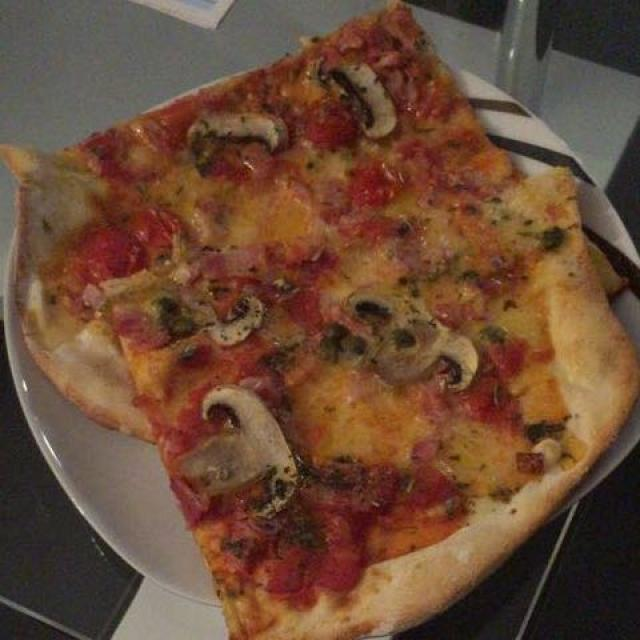mushrooms: (142, 50, 511, 534)
pizza: (23, 14, 627, 605)
